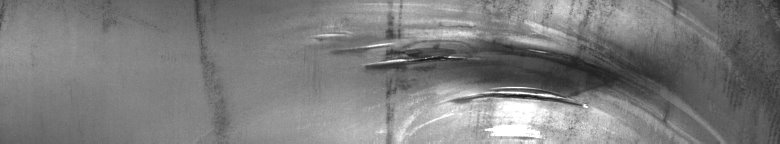ke: (315, 4, 607, 131)
